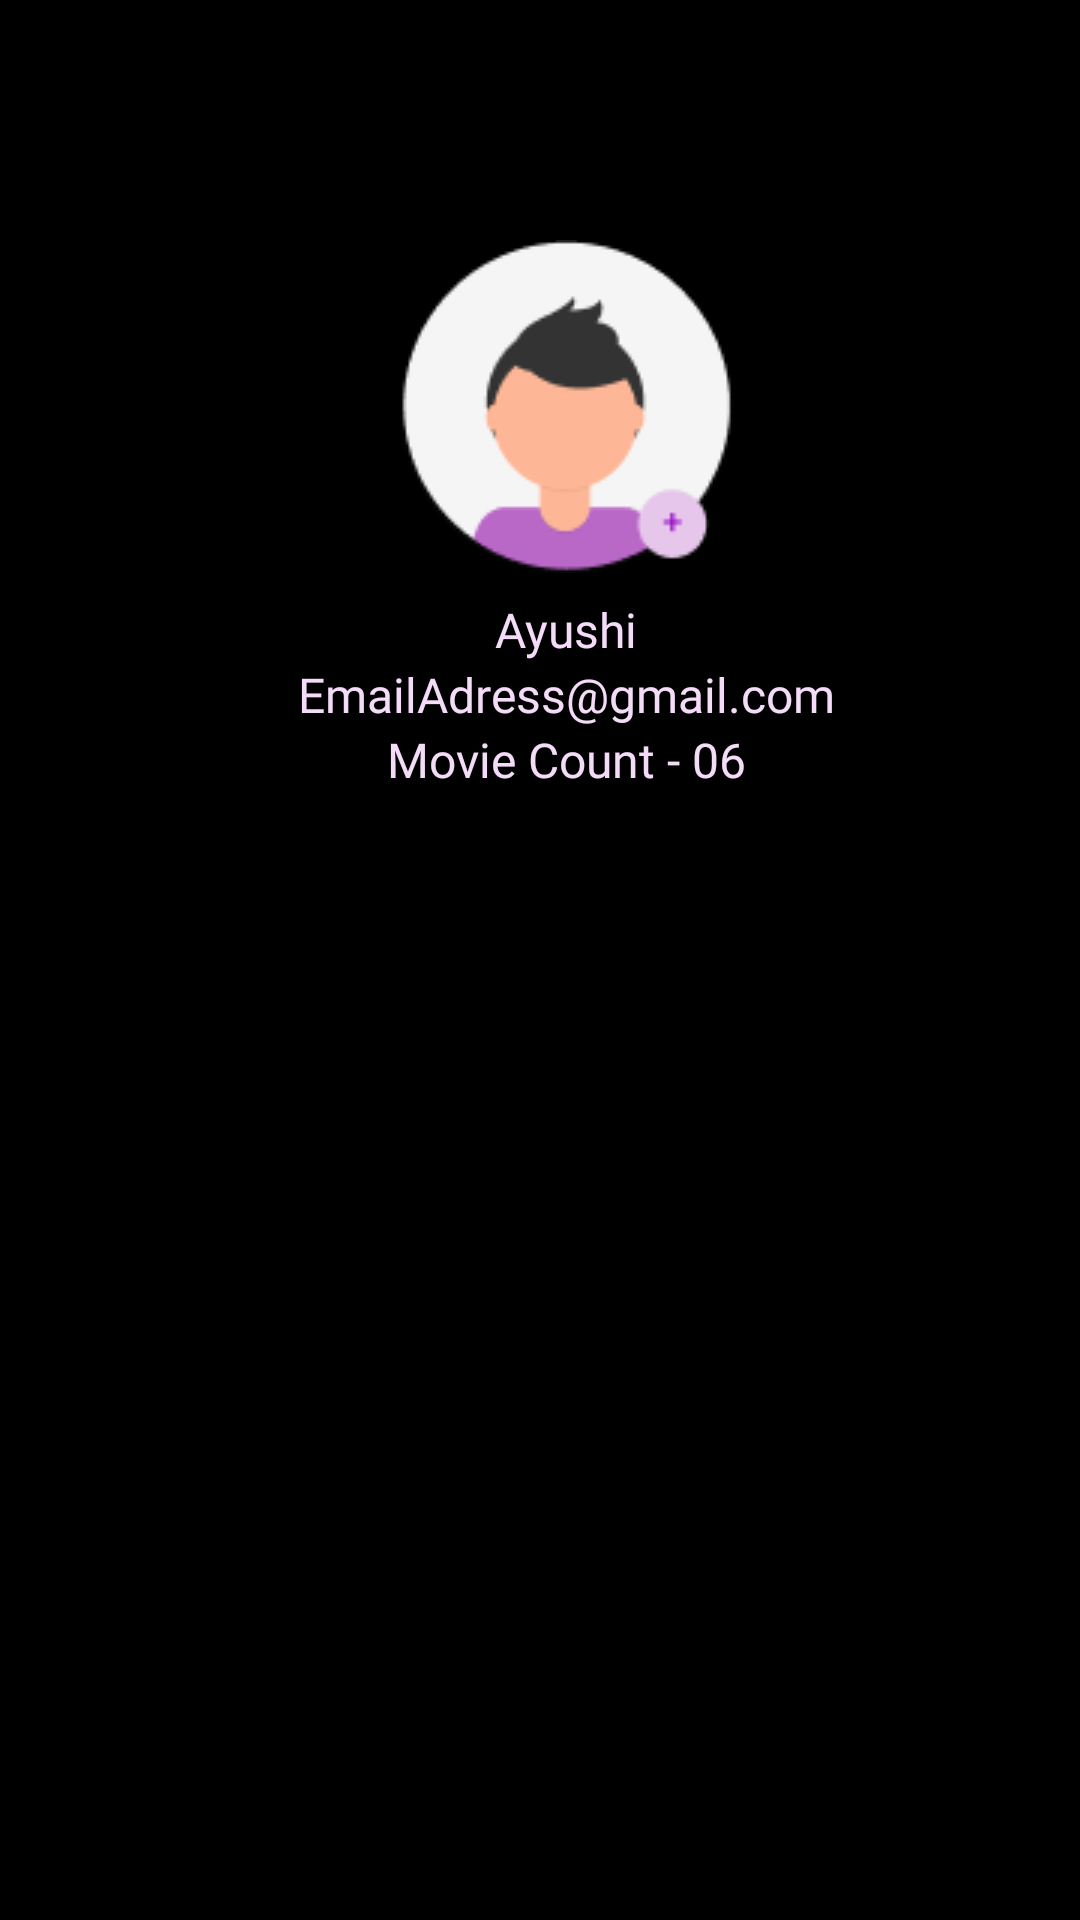

Locate icon controls on the screen. Image size 1080px x 1920px, boxes as [x1,y1,x2,y2].
profilepic: [402,240,731,571]
